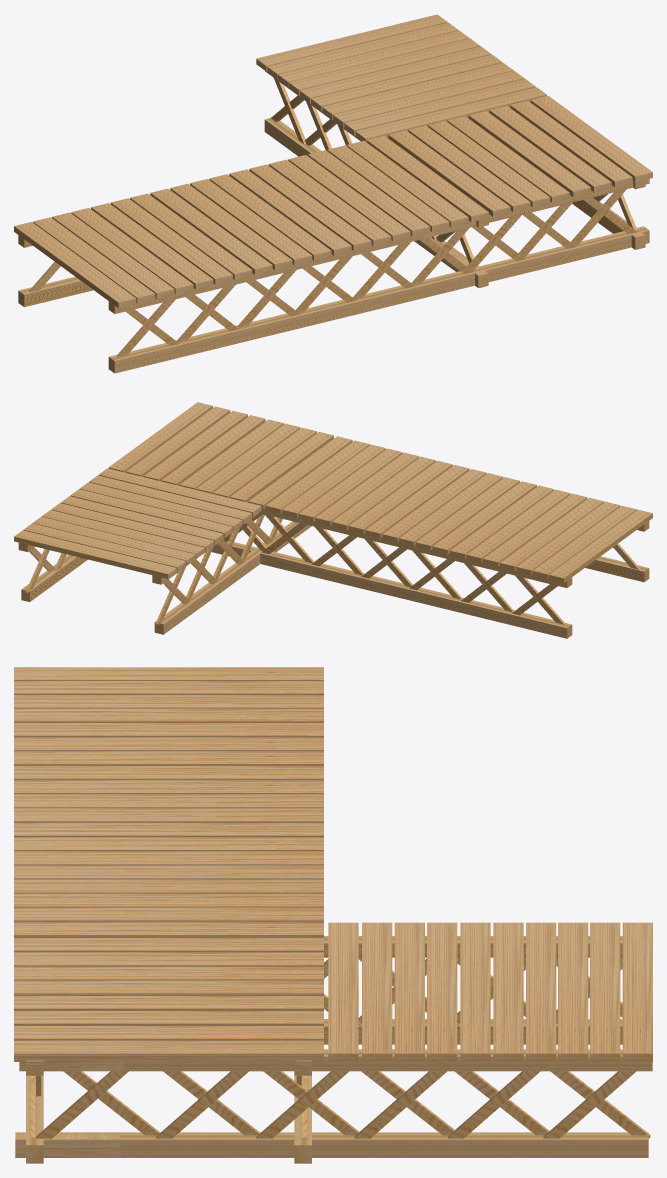
File: Platform_2.fbx
3 views of the same model, one above another, from view 1: azimuth 30°, elevation 25°; view 2: azimuth 150°, elevation 25°; view 3: azimuth 270°, elevation 25° (orthographic). The views are drawn at different scales.
Parts seen in each view (by area): view 1: Cube.032, Cube.030, Cube.031, Cube.039, Cube.042, Cube.043, Cube.041, Cube.035, Cube.045, Cube.044, Cube.012, Cube.022 (+37 smaller); view 2: Cube.032, Cube.035, Cube.050, Cube.031, Cube.039, Cube.042, Cube.030, Cube.022, Cube.017, Cube.043, Cube.023, Cube.041 (+37 smaller); view 3: Cube.035, Cube.033, Cube.044, Cube.012, Cube.013, Cube.037, Cube.014, Cube.015, Cube.016, Cube.017, Cube.018, Cube.019 (+40 smaller).
Part boxes in pixels (<box>): Cube.032: <box>18,226,649,373</box>; Cube.030: <box>18,179,649,313</box>; Cube.031: <box>14,222,136,308</box>; Cube.039: <box>388,130,510,216</box>; Cube.042: <box>468,111,590,197</box>; Cube.043: <box>510,100,632,186</box>; Cube.041: <box>489,106,611,192</box>; Cube.035: <box>264,118,645,288</box>; Cube.045: <box>355,87,546,141</box>; Cube.044: <box>530,95,652,182</box>; Cube.012: <box>366,135,488,222</box>; Cube.022: <box>150,188,272,274</box>; Cube.032: <box>211,541,649,638</box>; Cube.035: <box>21,521,311,634</box>; Cube.050: <box>14,530,176,578</box>; Cube.031: <box>548,509,652,583</box>; Cube.039: <box>229,432,333,502</box>; Cube.042: <box>161,415,265,485</box>; Cube.030: <box>259,508,649,587</box>; Cube.022: <box>432,481,536,554</box>; Cube.017: <box>365,465,469,538</box>; Cube.043: <box>126,406,230,476</box>; Cube.023: <box>415,477,519,550</box>; Cube.041: <box>143,411,247,481</box>; Cube.035: <box>15,1019,648,1157</box>; Cube.033: <box>19,936,652,1071</box>; Cube.044: <box>14,1040,323,1061</box>; Cube.012: <box>14,922,323,937</box>; Cube.013: <box>14,907,323,922</box>; Cube.037: <box>14,980,323,995</box>; Cube.014: <box>14,879,323,893</box>; Cube.015: <box>14,893,323,907</box>; Cube.016: <box>14,837,323,851</box>; Cube.017: <box>14,823,323,837</box>; Cube.018: <box>14,851,323,865</box>; Cube.019: <box>14,865,323,879</box>.
Size of the model in its own units: 1300 by 172 by 907.
